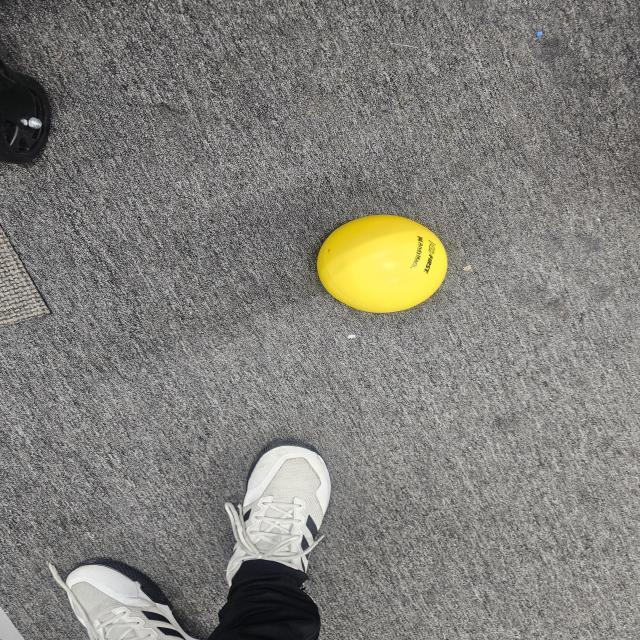Fuel: (310, 210, 462, 318)
